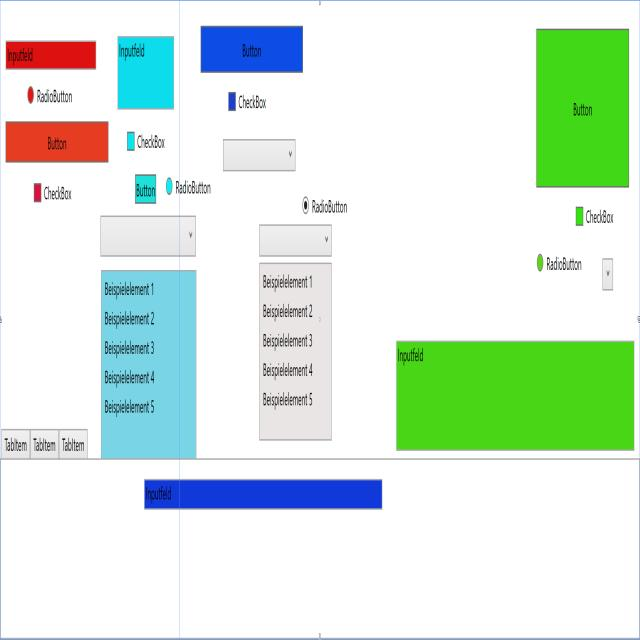button: (535, 19, 630, 192), (199, 19, 305, 79), (4, 114, 110, 167), (134, 170, 158, 203)
checkbox: (32, 176, 43, 210), (573, 201, 585, 231), (227, 88, 238, 116), (126, 125, 136, 154)
dropdownMenu: (99, 207, 198, 463), (258, 219, 332, 445), (222, 132, 298, 177), (601, 248, 615, 301)
input: (394, 334, 636, 458), (143, 472, 384, 516), (116, 29, 175, 116), (4, 35, 98, 75)
label: (175, 176, 212, 198), (546, 253, 583, 274), (311, 196, 348, 216), (136, 129, 166, 153), (37, 87, 74, 106), (238, 91, 267, 114), (44, 183, 72, 206), (585, 207, 615, 228)
radio: (300, 190, 310, 220), (164, 171, 173, 199), (26, 82, 36, 106), (536, 247, 544, 275)
tabControl: (0, 418, 90, 465)
